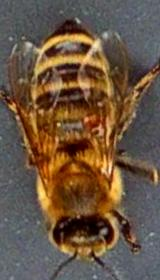varroa_mite: (80, 109, 106, 138)
